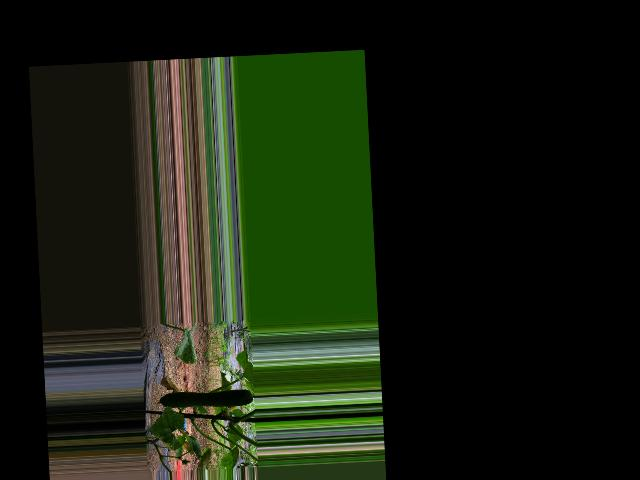cucumber: (156, 388, 253, 410)
